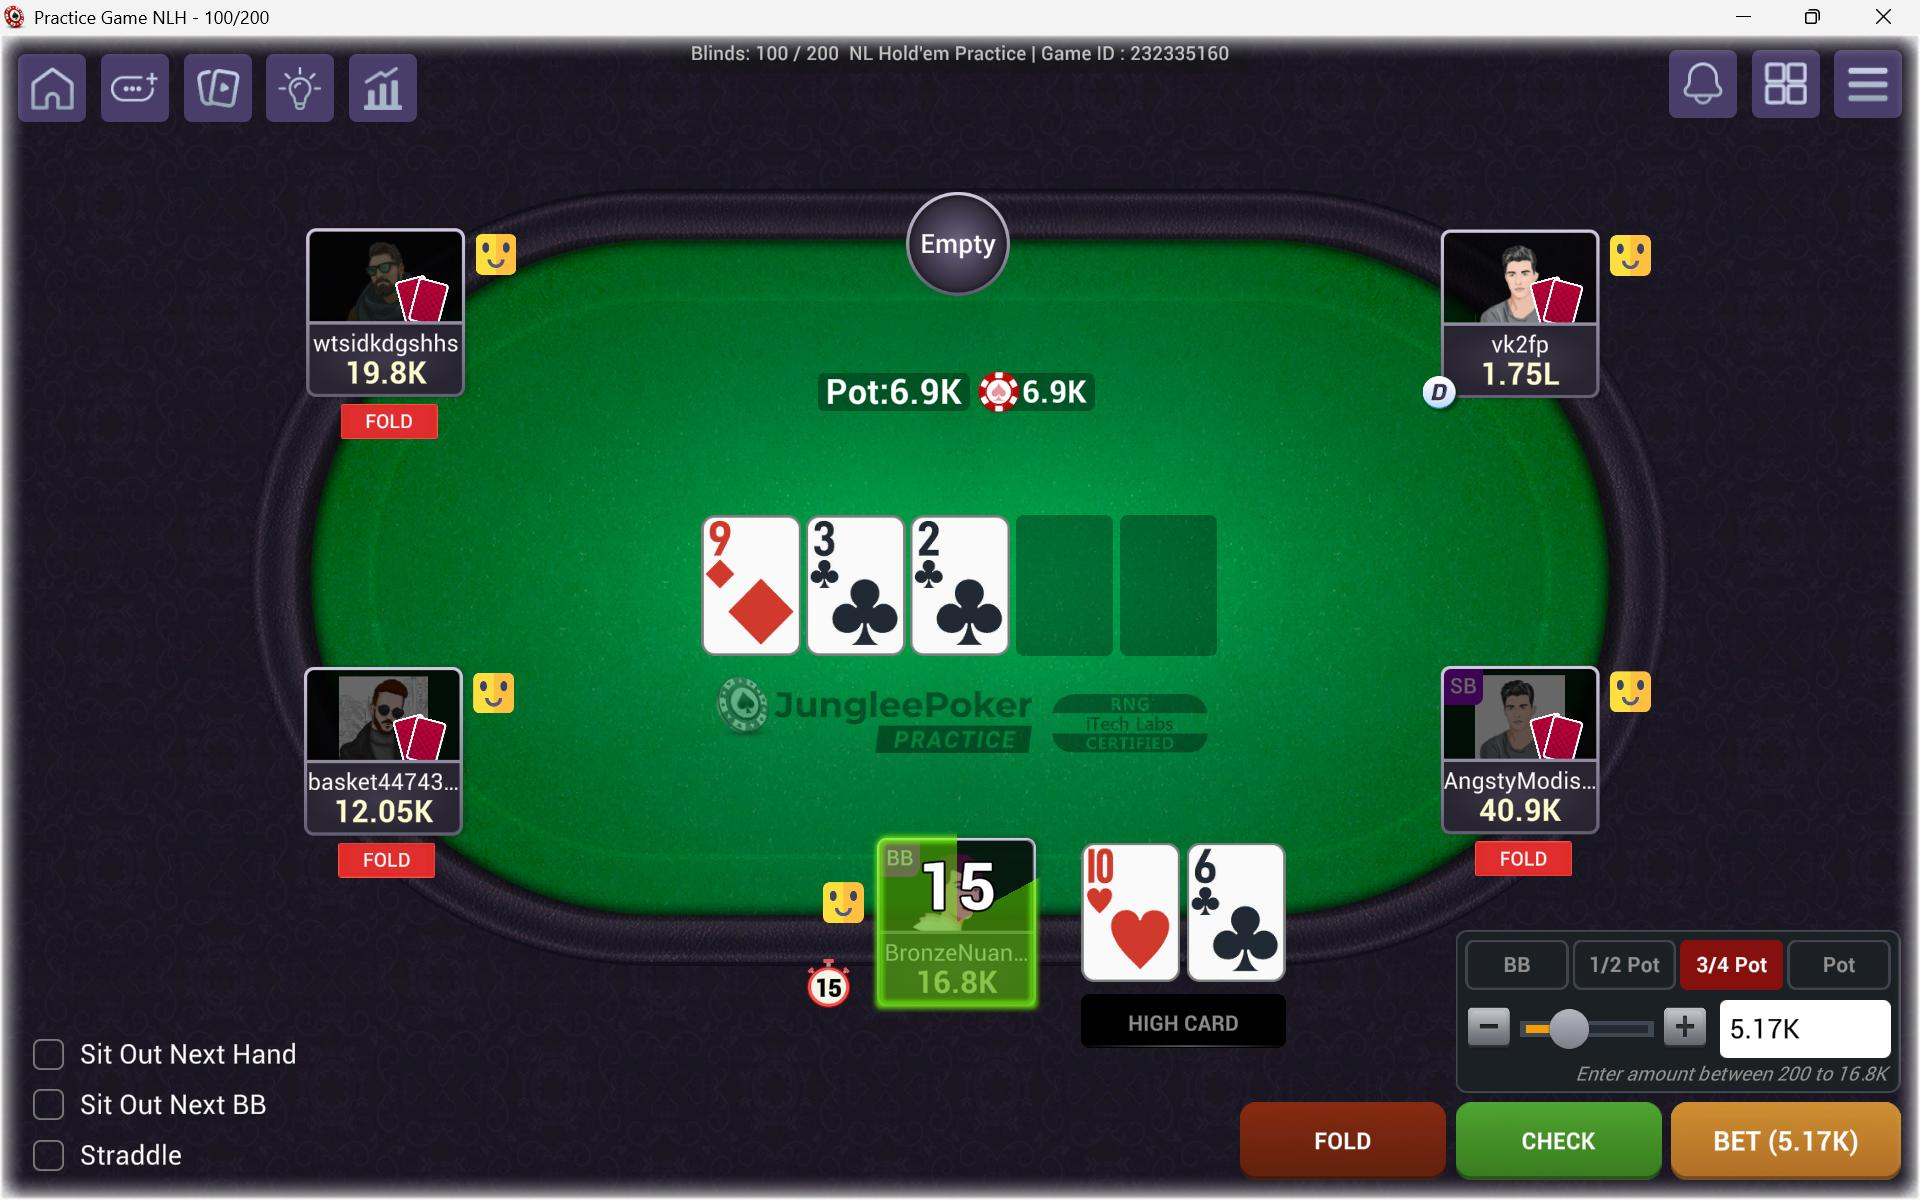button_bet: (1672, 1100, 1898, 1178)
button_check: (1460, 1100, 1658, 1175)
button_fold: (1240, 1100, 1445, 1182)
card1_rank: (1080, 845, 1160, 888)
card1_suite_heart: (1105, 905, 1178, 980)
card2_rank: (1190, 840, 1268, 892)
card2_suite_club: (1208, 908, 1285, 980)
flop1_rank: (705, 518, 802, 562)
flop1_suite_diamond: (728, 578, 802, 652)
flop2_rank: (808, 520, 882, 560)
flop2_suite_club: (830, 578, 902, 655)
flop3_rank: (915, 520, 980, 560)
flop3_suite_club: (932, 578, 1010, 652)
game_id: (1040, 42, 1242, 73)
position_BB: (885, 840, 922, 875)
position_SB: (1448, 672, 1483, 702)
total_pot: (820, 370, 1102, 412)
villian1_name: (310, 758, 458, 795)
villian1_stack: (320, 798, 442, 832)
villian2_name: (312, 325, 462, 355)
villian2_stack: (342, 358, 438, 392)
villian4_name: (1448, 327, 1598, 358)
villian4_stack: (1468, 358, 1578, 390)
villian5_name: (1445, 765, 1602, 795)
villian5_stack: (1458, 798, 1588, 828)
